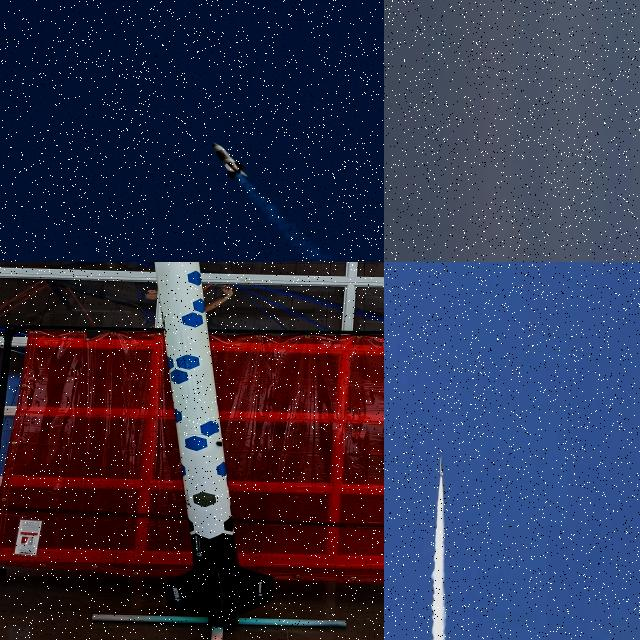Rocket: (154, 262, 274, 627), (210, 140, 250, 182), (439, 456, 443, 480)
